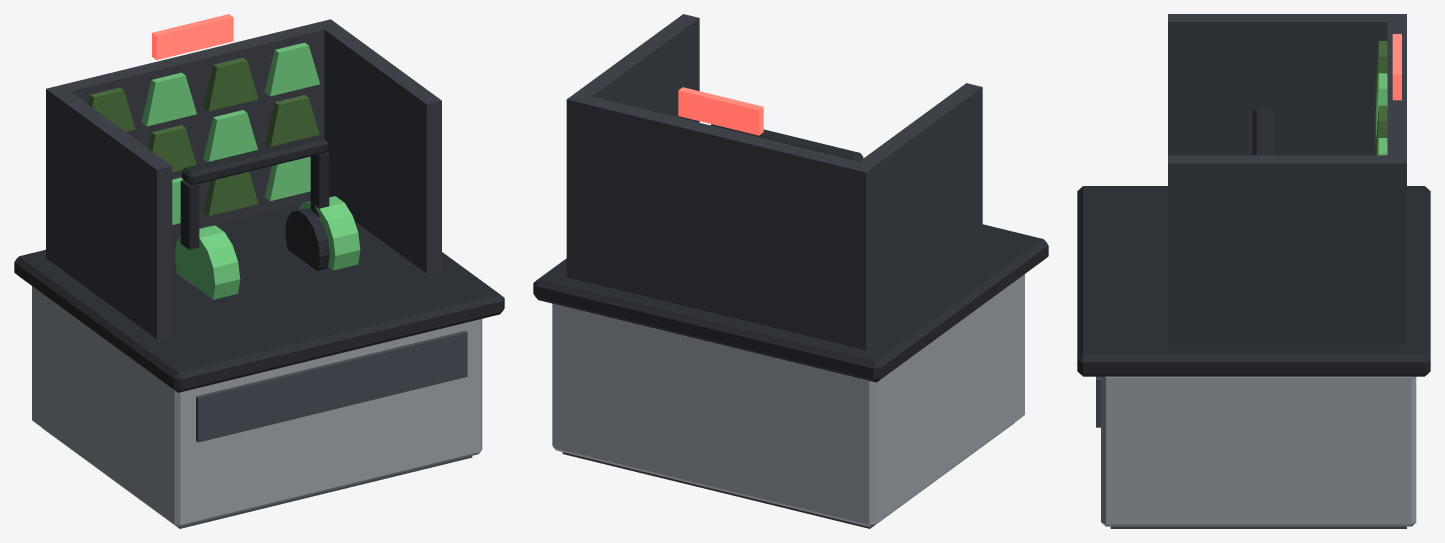
Rendered from headphones_p0_4.glb.
3 views of the same model, side by side, from view 1: azimuth 30°, elevation 25°; view 2: azimuth 150°, elevation 25°; view 3: azimuth 270°, elevation 25° (orthographic). The views are drawn at different scales.
Visible parts, largest first — view 1: headphones_p0_4_mesh_Desk, headphones_p0_4_mesh; view 2: headphones_p0_4_mesh, headphones_p0_4_mesh_Desk; view 3: headphones_p0_4_mesh, headphones_p0_4_mesh_Desk.
Part boxes in pixels (x1,y1,x2,y2): headphones_p0_4_mesh_Desk: (14, 204, 504, 528); headphones_p0_4_mesh: (46, 14, 441, 339); headphones_p0_4_mesh: (566, 14, 982, 349); headphones_p0_4_mesh_Desk: (533, 224, 1048, 528); headphones_p0_4_mesh: (1168, 14, 1406, 345); headphones_p0_4_mesh_Desk: (1077, 186, 1430, 528).
Size of the model in its own units: 0.86 by 0.92 by 0.74.
